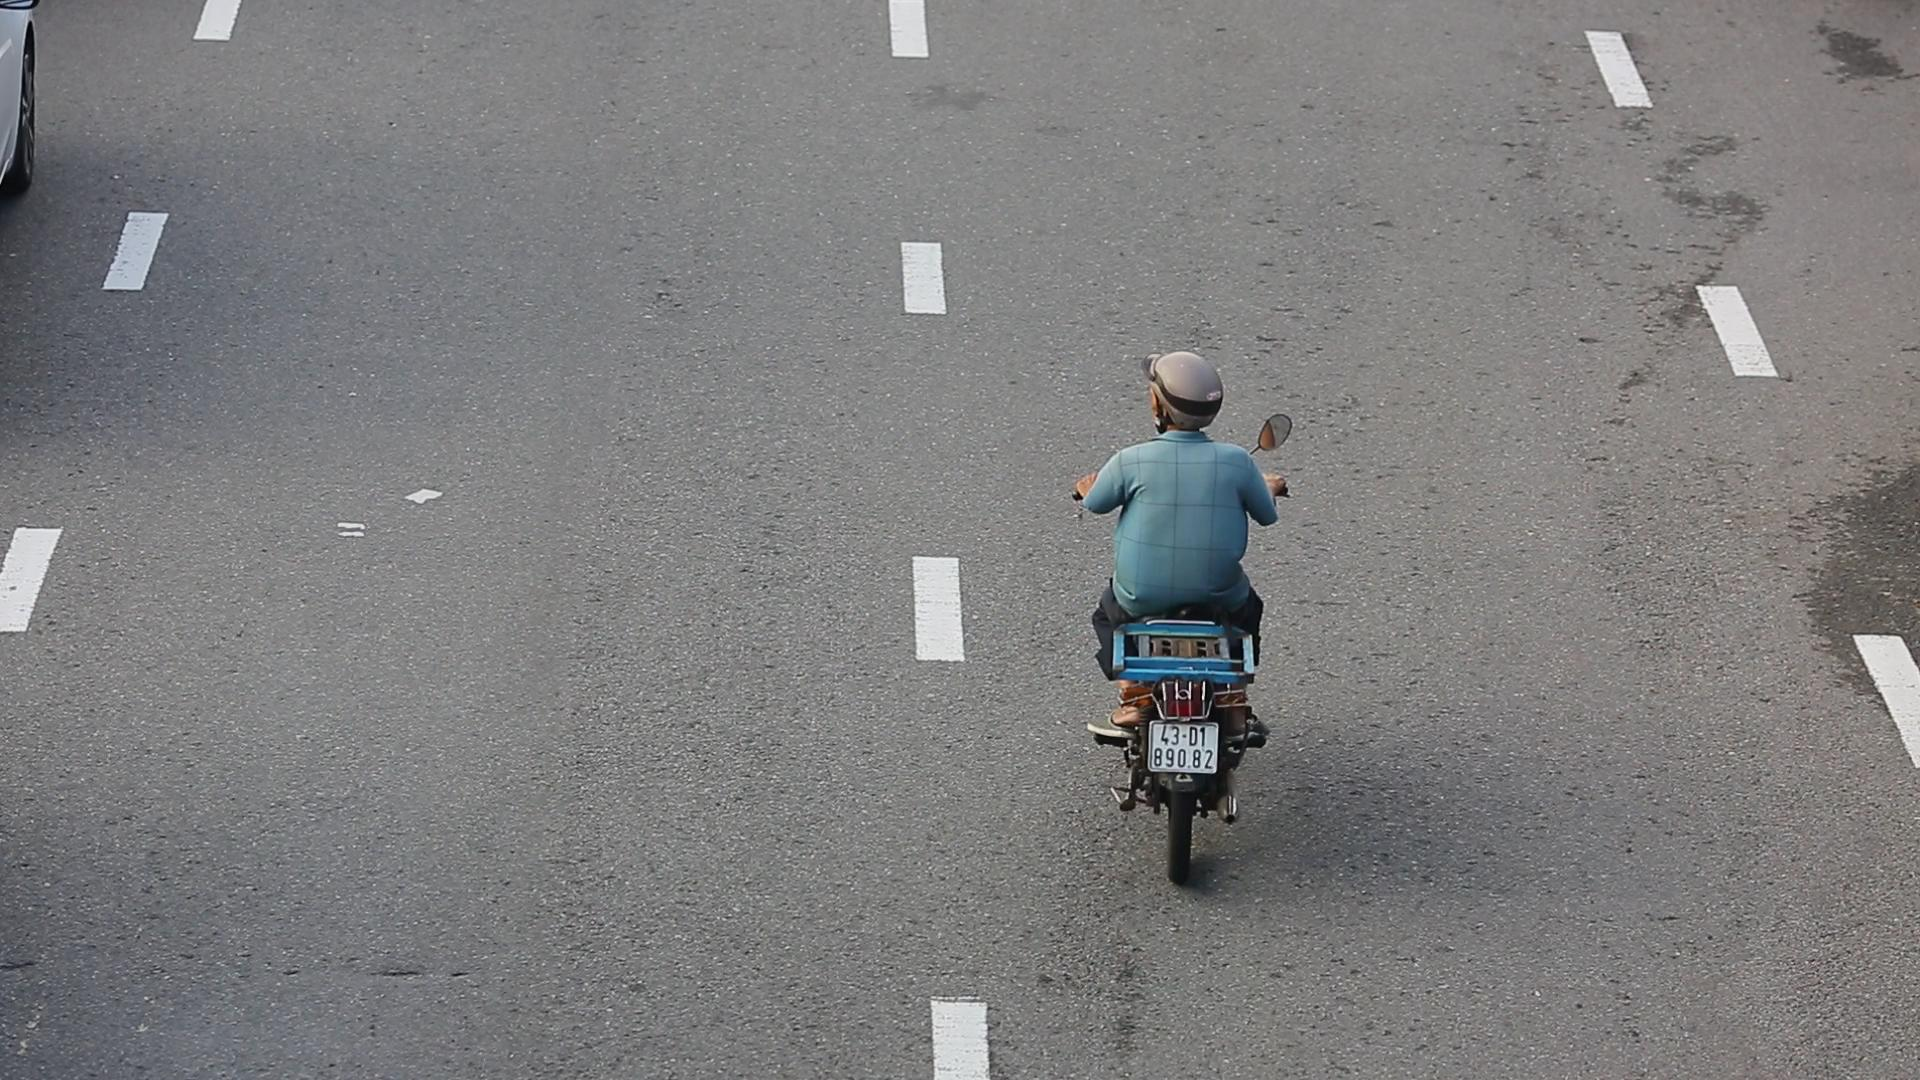motobike: (1076, 343, 1295, 899)
